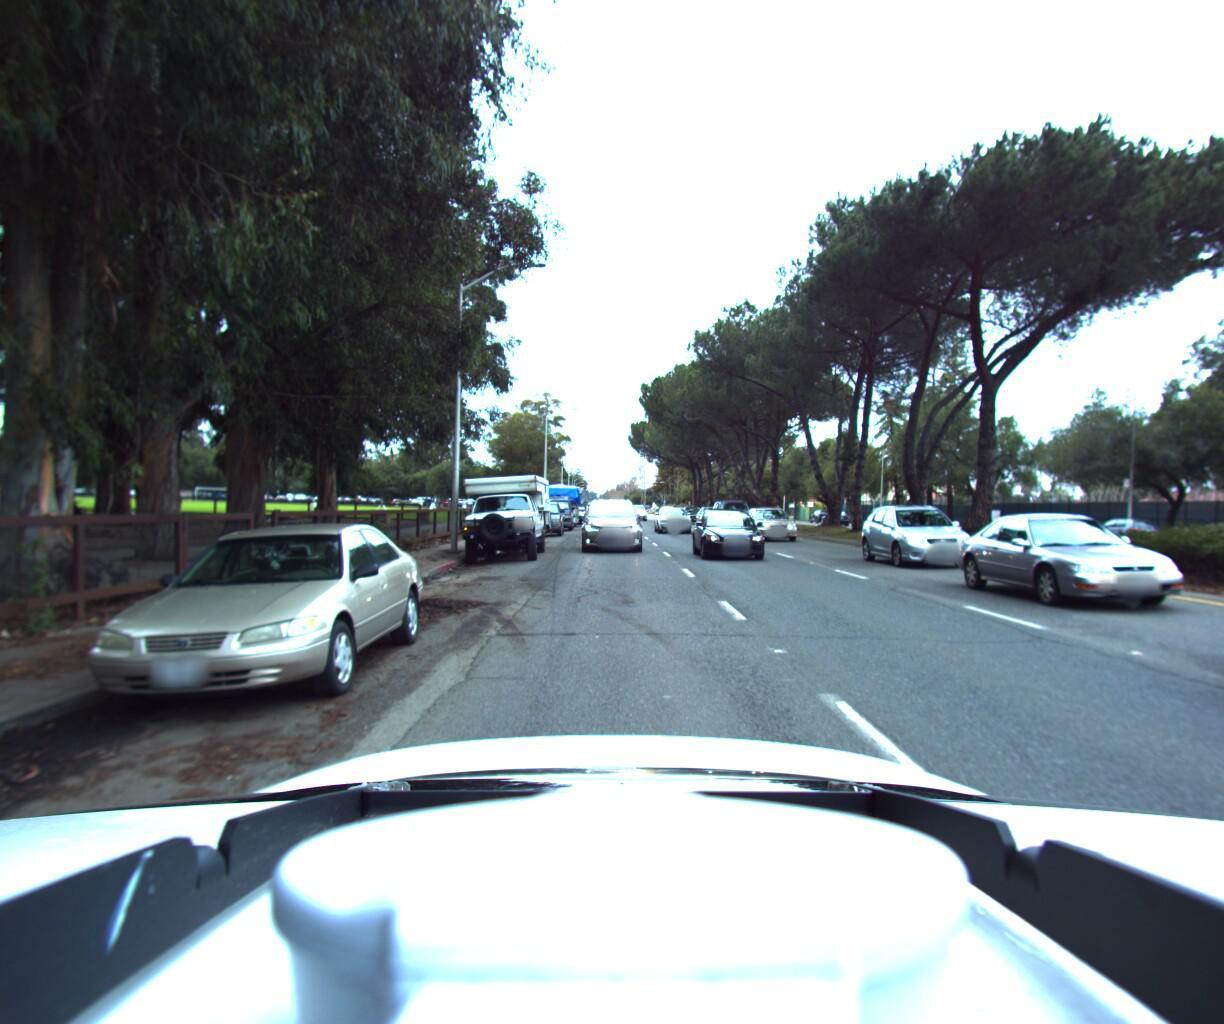car: (32, 508, 439, 745), (944, 497, 1209, 621), (853, 495, 993, 571), (694, 506, 782, 564), (576, 488, 648, 549), (1078, 514, 1167, 549), (735, 501, 804, 540), (703, 494, 749, 532), (534, 492, 574, 532), (521, 498, 563, 536), (656, 503, 697, 535), (632, 503, 652, 520)
other_vehicle: (440, 465, 555, 566), (535, 480, 579, 528), (548, 483, 587, 525)
